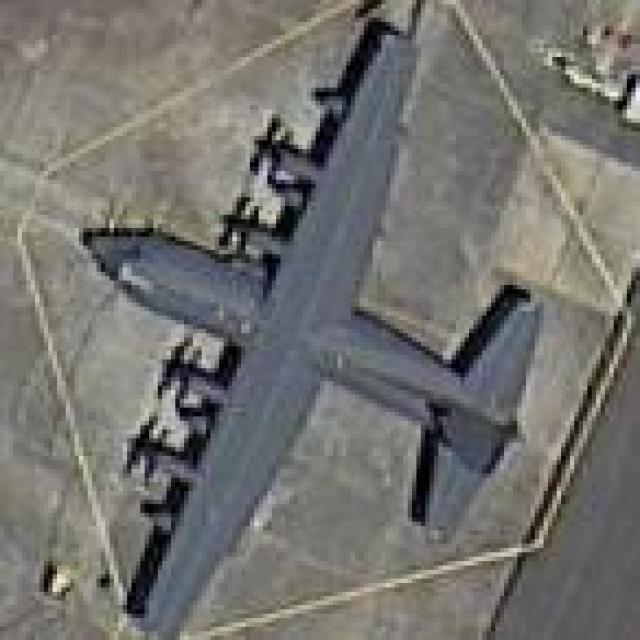C-130_TopDown: (77, 10, 546, 640)
